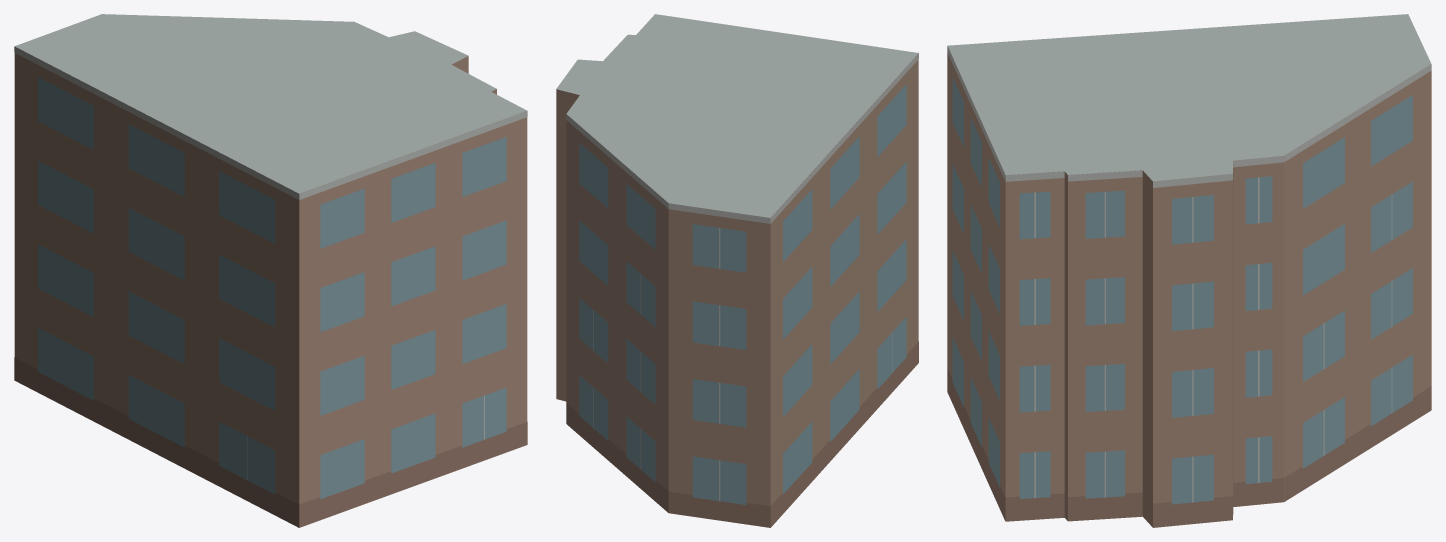
File: survey-upis-32912862.glb
3 views of the same model, side by side, from view 1: azimuth 30°, elevation 25°; view 2: azimuth 150°, elevation 25°; view 3: azimuth 270°, elevation 25° (orthographic). The views are drawn at different scales.
Visible parts, largest first — view 1: survey-upis-32912862.tmp; view 2: survey-upis-32912862.tmp; view 3: survey-upis-32912862.tmp.
Boxes of the visible parts, x1,y1,x2,y2 form: survey-upis-32912862.tmp: (14, 14, 527, 527); survey-upis-32912862.tmp: (556, 14, 918, 527); survey-upis-32912862.tmp: (947, 14, 1431, 527).
Bounding box in the file's own units: 13.28 × 12.8 × 16.22.
